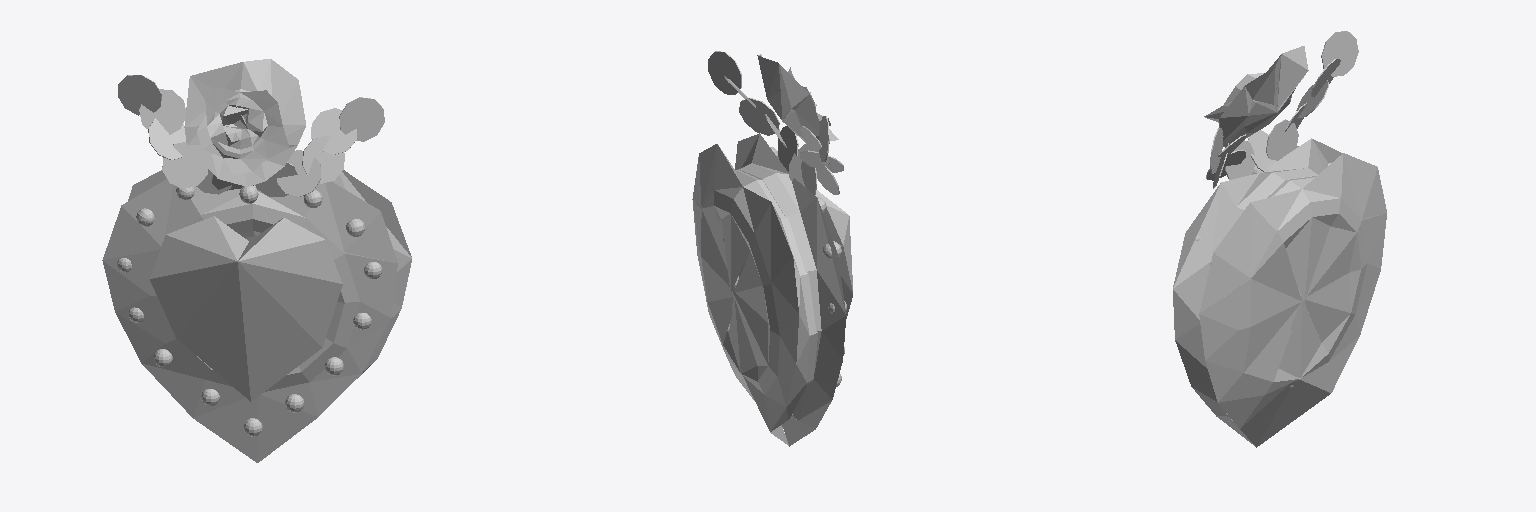
The model's file is corazon.obj.
The picture shows the model from 3 angles: view 1: azimuth 30°, elevation 25°; view 2: azimuth 150°, elevation 25°; view 3: azimuth 270°, elevation 25°; orthographic projection.
Visible parts, largest first — view 1: group[number redacted], group[number redacted], group[number redacted], group[number redacted], group[number redacted], group[number redacted], group[number redacted], group[number redacted], group[number redacted], group[number redacted], group[number redacted], group[number redacted] (+1 smaller); view 2: group[number redacted], group[number redacted], group[number redacted], group[number redacted], group[number redacted], group[number redacted], group[number redacted]; view 3: group[number redacted], group[number redacted], group[number redacted], group[number redacted], group[number redacted], group[number redacted], group[number redacted].
Boxes of the visible parts, box(x1,y1,x2,y2) form: group[number redacted]: box(102, 179, 397, 462); group[number redacted]: box(150, 216, 342, 401); group[number redacted]: box(184, 59, 305, 186); group[number redacted]: box(128, 170, 411, 373); group[number redacted]: box(339, 97, 384, 141); group[number redacted]: box(162, 141, 207, 188); group[number redacted]: box(118, 75, 161, 115); group[number redacted]: box(311, 108, 356, 154); group[number redacted]: box(139, 89, 185, 134); group[number redacted]: box(277, 150, 320, 196); group[number redacted]: box(302, 136, 344, 183); group[number redacted]: box(148, 118, 185, 159); group[number redacted]: box(692, 144, 817, 445); group[number redacted]: box(728, 133, 845, 446); group[number redacted]: box(757, 54, 838, 143); group[number redacted]: box(815, 190, 852, 318); group[number redacted]: box(708, 51, 741, 94); group[number redacted]: box(739, 98, 779, 135); group[number redacted]: box(778, 126, 798, 171); group[number redacted]: box(1199, 153, 1386, 447); group[number redacted]: box(1173, 138, 1342, 446); group[number redacted]: box(1204, 46, 1308, 146); group[number redacted]: box(1321, 31, 1358, 76); group[number redacted]: box(1266, 119, 1298, 160); group[number redacted]: box(1247, 130, 1276, 171); group[number redacted]: box(1225, 140, 1254, 179).
Bounding box in the file's own units: 1.11 × 1.8 × 0.8885.